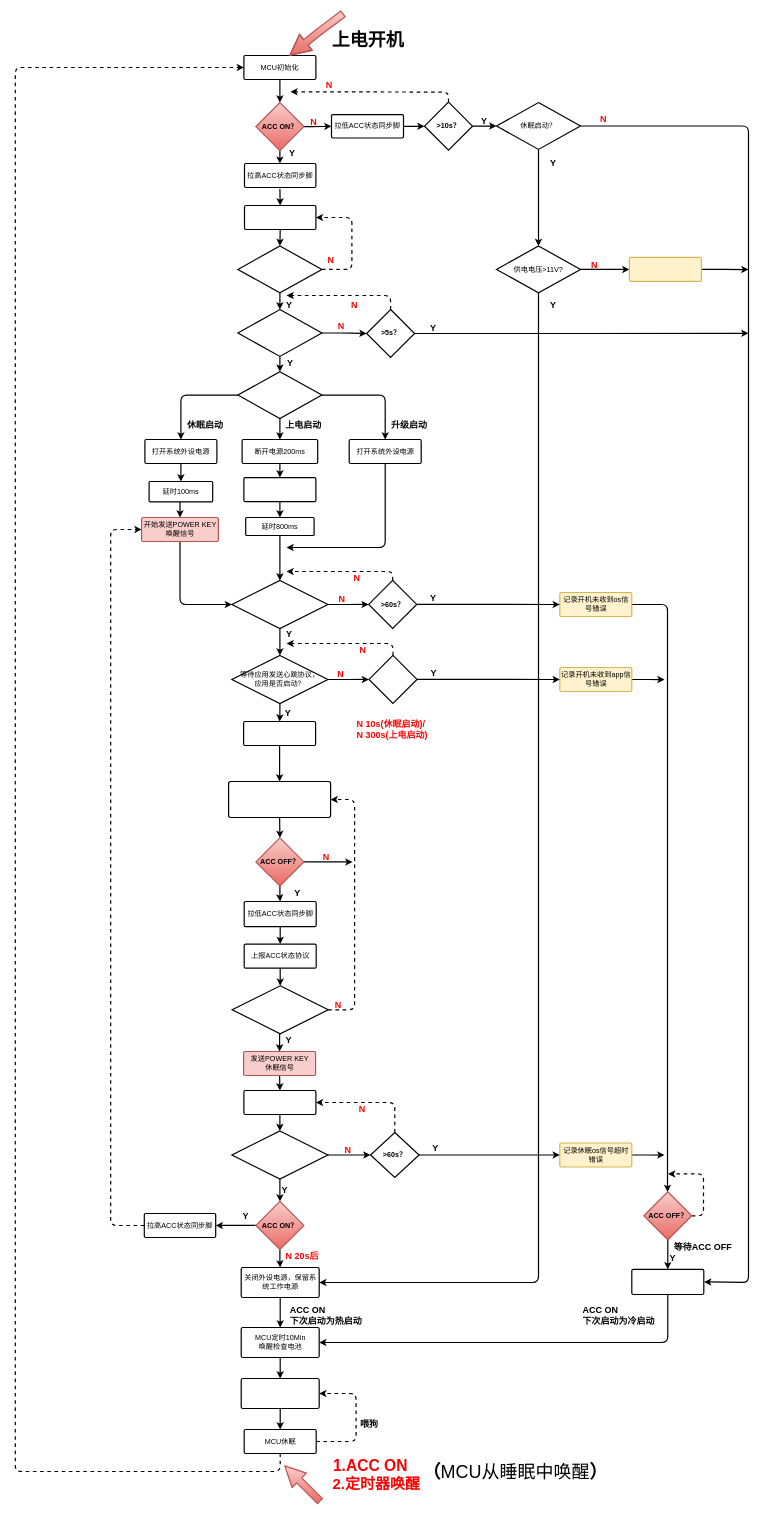
The diagram is 764 pixels wide and 1514 high, and some of its shapes have lost their labels. The centre of each missing label's shape, as x and y in pixels:
">Ns？" goes at point (392, 679).
"ACC OFF >10s?" goes at point (279, 1009).
"CPU已经休眠？" goes at point (279, 1154).
"MCU定时10s唤醒喂狗" goes at point (280, 1393).
"关闭所有电源" goes at point (667, 1281).
"判断启动状态" goes at point (279, 395).
"开功放" goes at point (279, 733).
"打开系统供电与外设电源" goes at point (279, 489).
"电池电压稳定？" goes at point (279, 269).
"电瓶电压>6V?" goes at point (279, 333).
"等待CPU休眠信号" goes at point (279, 1102).
"等待系统启动信号， CPU已经唤醒？" goes at point (279, 604).
"记录休眠电压过低 错误" goes at point (665, 269).
"轮询处理： 采集电压，检测信号，控制外设，与应用通信等，上报错误" goes at point (279, 799).
"采集开机打火电压1s" goes at point (280, 217).
